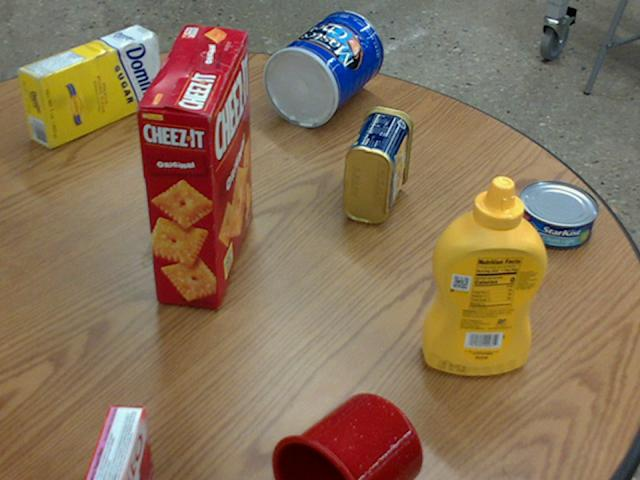cracker_box: (137, 25, 249, 308)
gelatin_box: (79, 406, 148, 479)
master_chef_can: (261, 10, 381, 126)
mug: (269, 394, 421, 479)
mustard_bottle: (420, 176, 545, 374)
potted_meat_can: (342, 106, 411, 223)
sugar_box: (17, 24, 162, 147)
tuna_fish_can: (513, 180, 596, 249)
